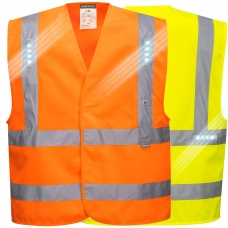safety vest: (10, 3, 165, 225), (130, 5, 224, 224)
